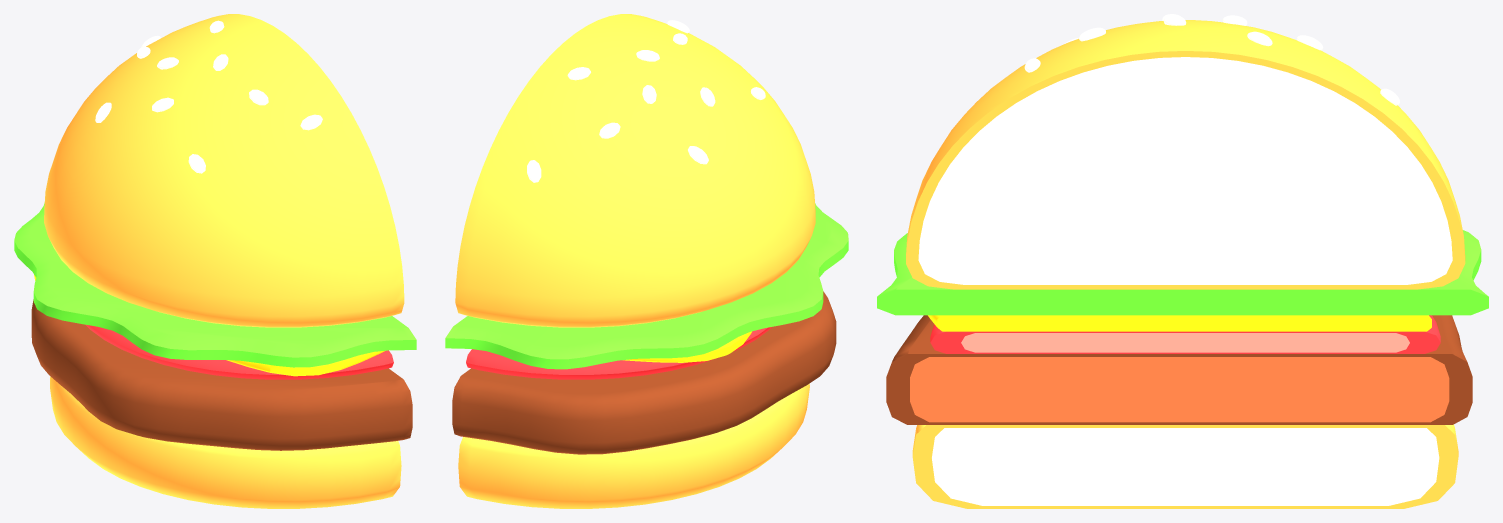
3 renders of one model, left to right at view 1: azimuth 30°, elevation 25°; view 2: azimuth 150°, elevation 25°; view 3: azimuth 270°, elevation 25°, orthographic. The views are drawn at different scales.
Visible parts, largest first — view 1: Burger-left; view 2: Burger-left; view 3: Burger-left.
Boxes of the visible parts, x1,y1,x2,y2 form: Burger-left: (14,14,416,508); Burger-left: (445,14,848,508); Burger-left: (877,14,1488,508).
Bounding box in the file's own units: 0.042 × 0.0645 × 0.0781.
